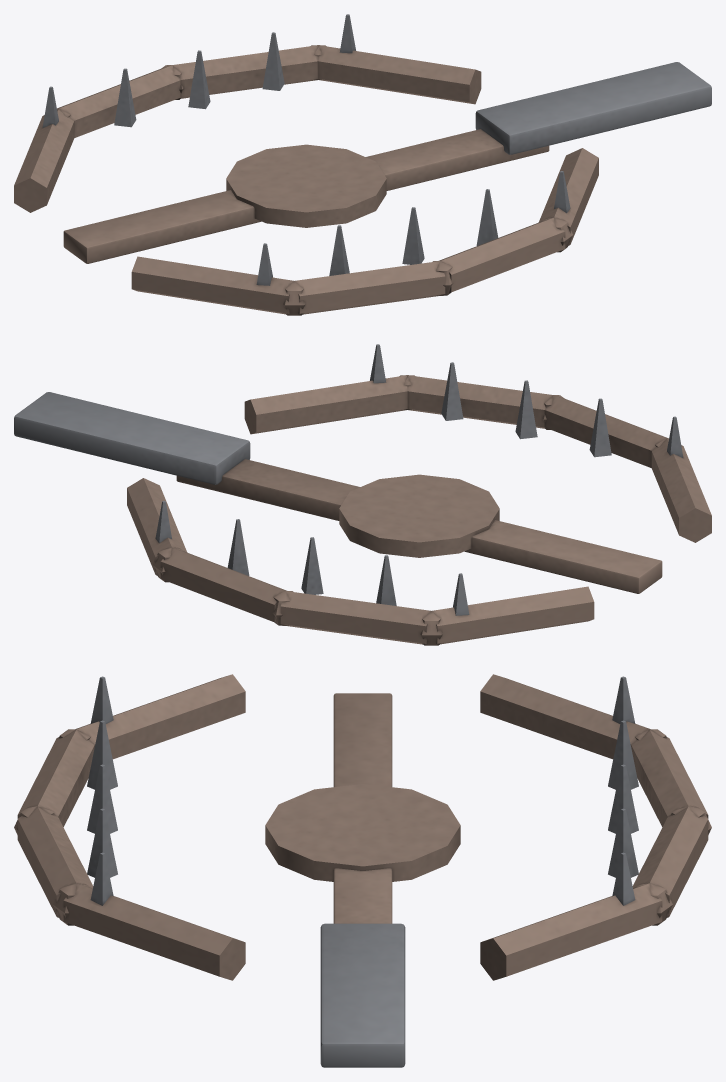
File: bear_trap.glb
3 views of the same model, one above another, from view 1: azimuth 30°, elevation 25°; view 2: azimuth 150°, elevation 25°; view 3: azimuth 270°, elevation 25° (orthographic). The views are drawn at different scales.
Parts seen in each view (by area): view 1: bear_trap; view 2: bear_trap; view 3: bear_trap.
Boxes of the visible parts, x1,y1,x2,y2 form: bear_trap: (14, 14, 711, 315); bear_trap: (14, 344, 711, 645); bear_trap: (14, 674, 711, 1067).
Size of the model in its own units: 0.672 by 0.0725 by 0.536.
Materials: 1 (1 with a texture image).
